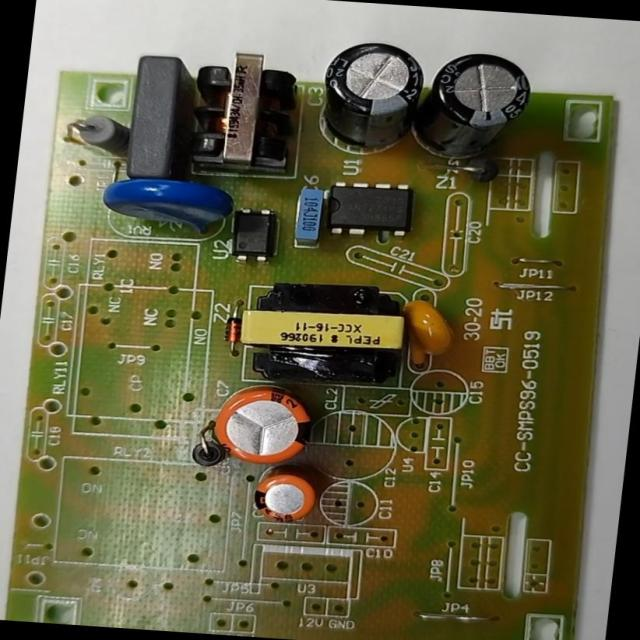Cap1: (204, 381, 319, 468)
Cap2: (236, 466, 321, 526)
Cap3: (302, 33, 427, 148)
Cap4: (423, 45, 542, 146)
MOSFET: (310, 170, 426, 246)
Mov: (91, 171, 234, 236)
Resistor: (60, 101, 124, 154)
Transformer: (228, 276, 412, 387), (179, 41, 305, 182)
